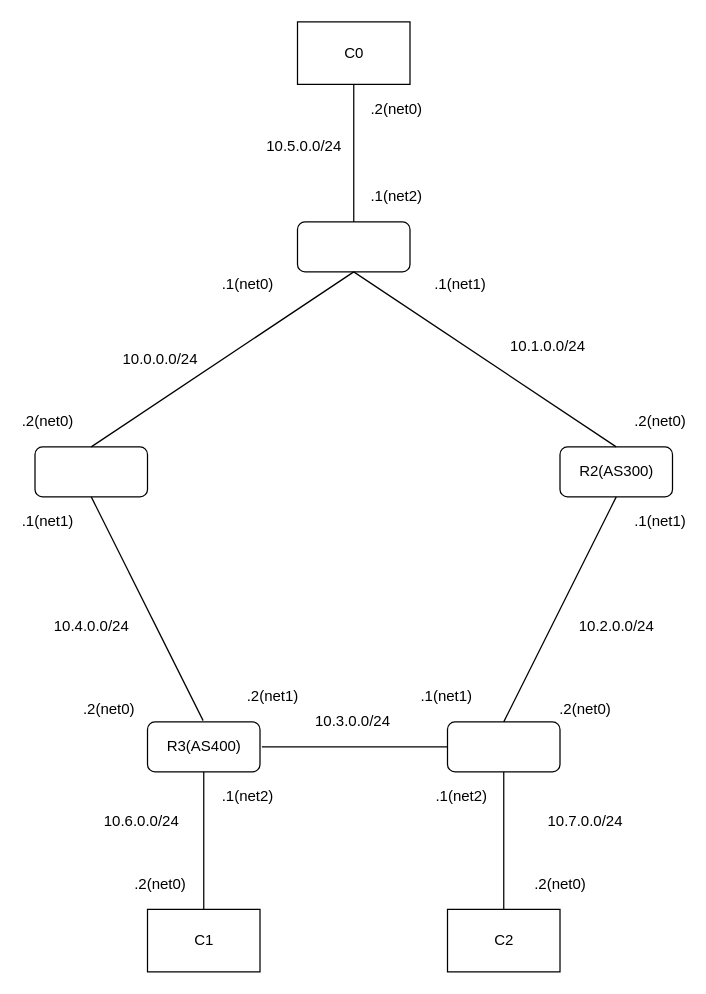
This 706x994 diagram has some shape labels left out. Here are the shapes that lost their labels. From the top down, the box of each, then its label:
(296, 221, 410, 272): R0(AS100)
(34, 446, 148, 497): R1(AS200)
(446, 721, 560, 772): R4(AS500)
